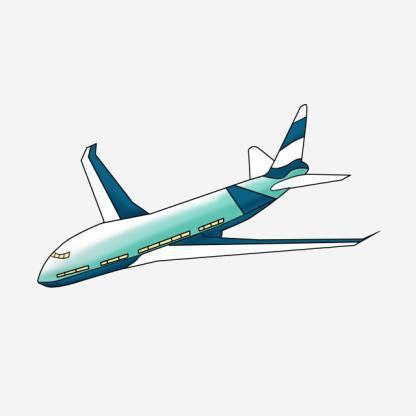CIV_Plane: (35, 100, 386, 292)
